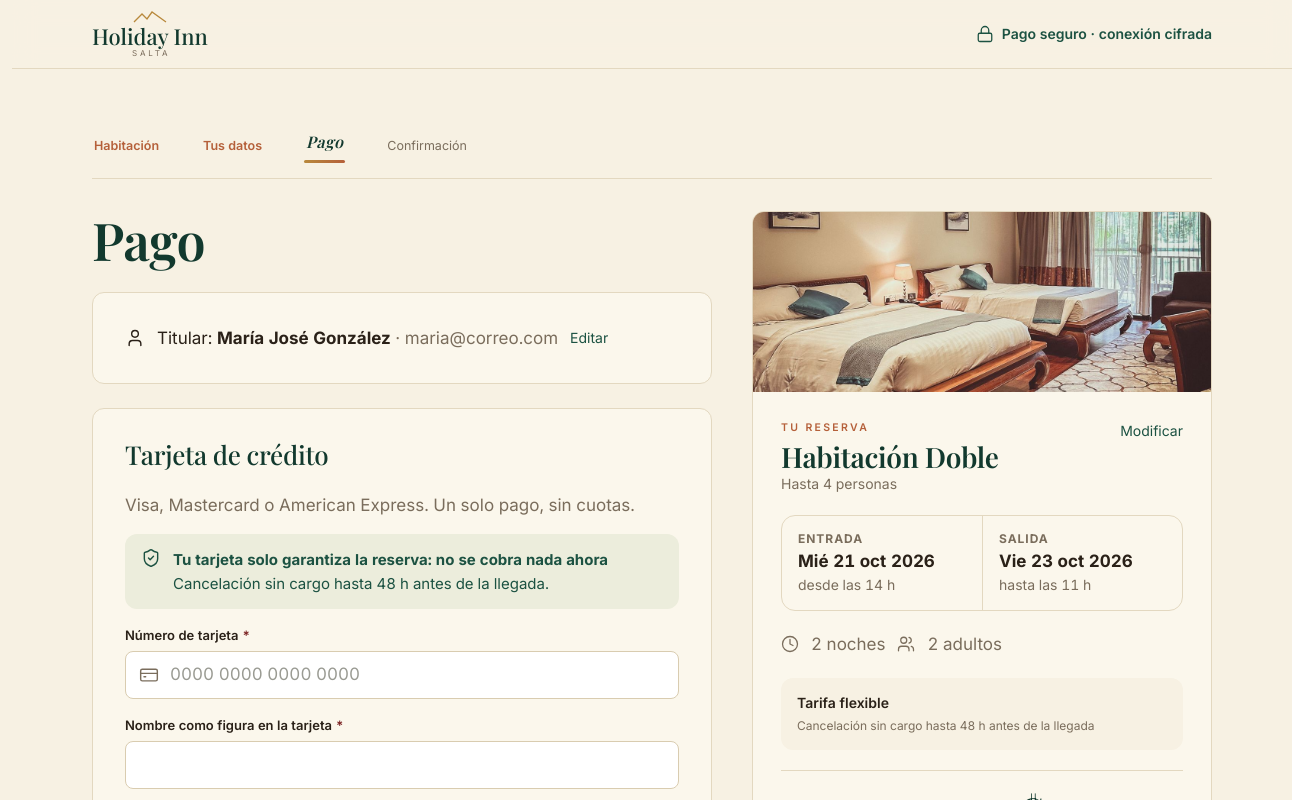
Test: pago con el formulario de tarjeta (mock) › crea la reserva, borra la clave y llega a la confirmación sin dejar la tarjeta en el storage
Type "4242424242424242" into the field labelled "Número de tarjeta *" at {"x": 402, "y": 675}, box 125,651 -> 679,699
(page scrolled)
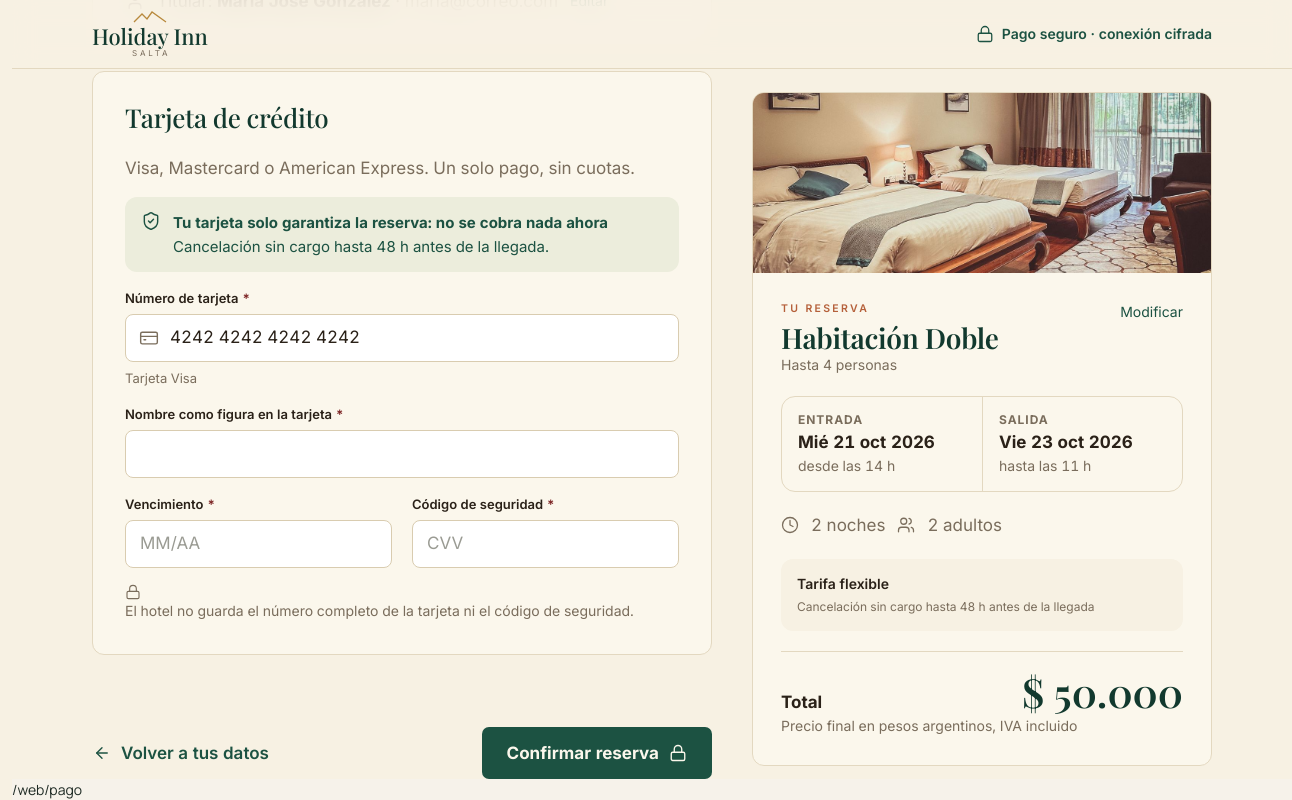
Type "MARIA GONZALEZ" into the field labelled "Nombre como figura en la tarjeta *" at {"x": 402, "y": 454}, box 125,430 -> 679,478
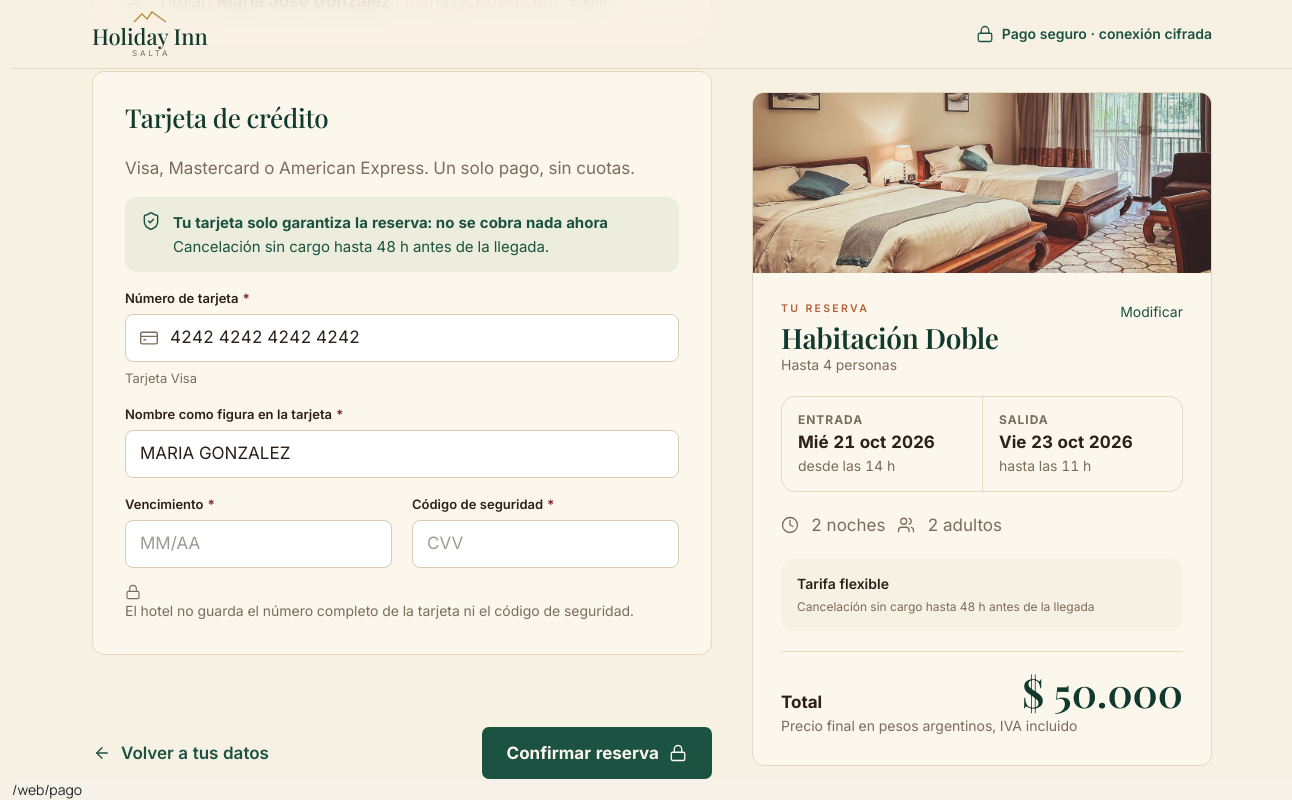
Type "1235" into the field labelled "Vencimiento *" at {"x": 258, "y": 544}, box 125,520 -> 392,568
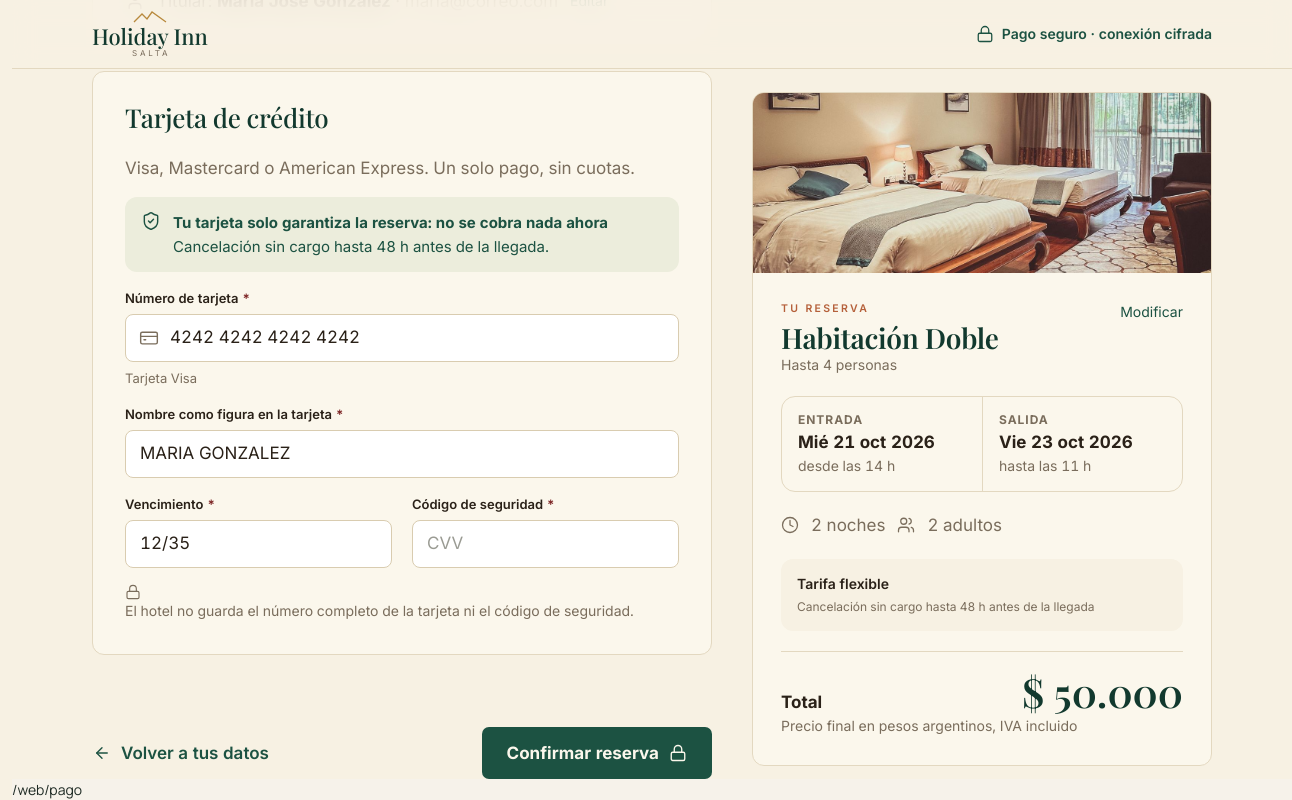
Type "123" into the field labelled "Código de seguridad *" at {"x": 546, "y": 544}, box 412,520 -> 679,568
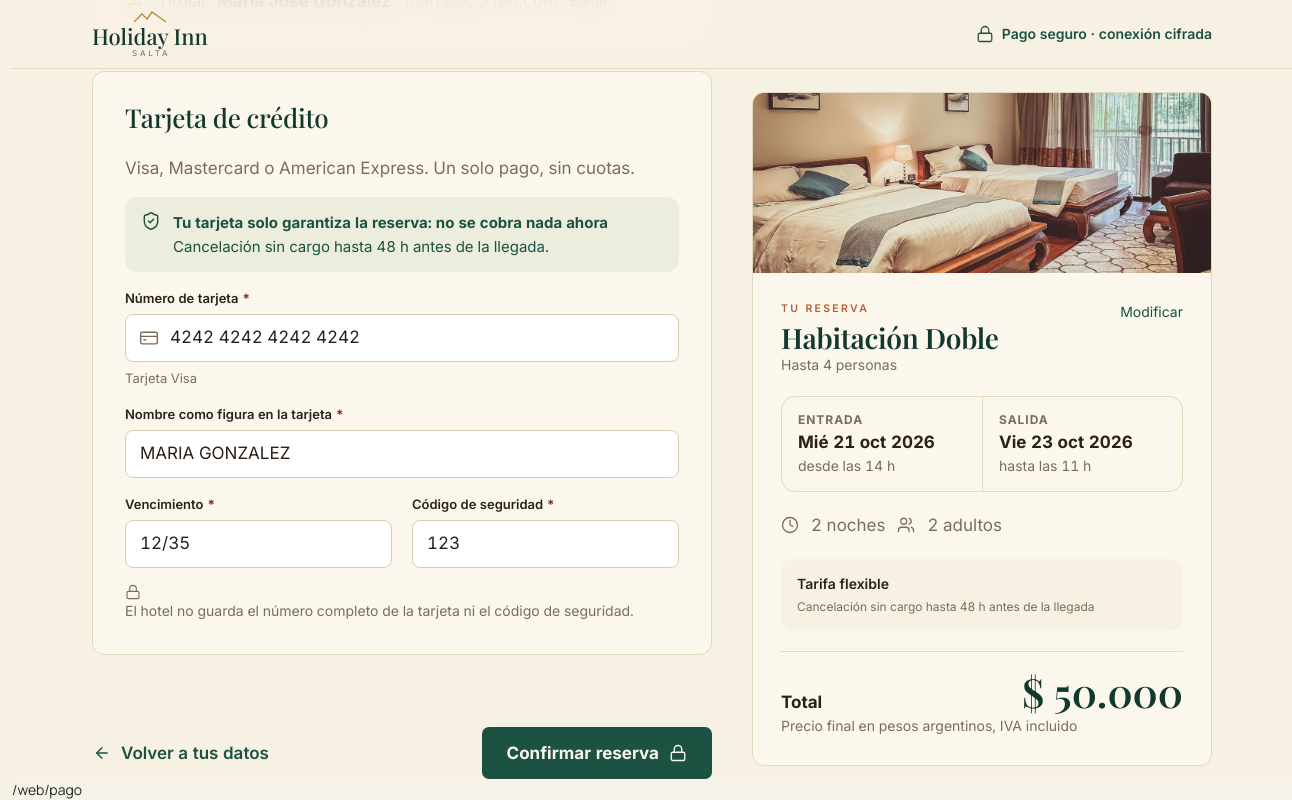
Click the button "Confirmar reserva" at {"x": 597, "y": 753}, box 482,727 -> 712,779
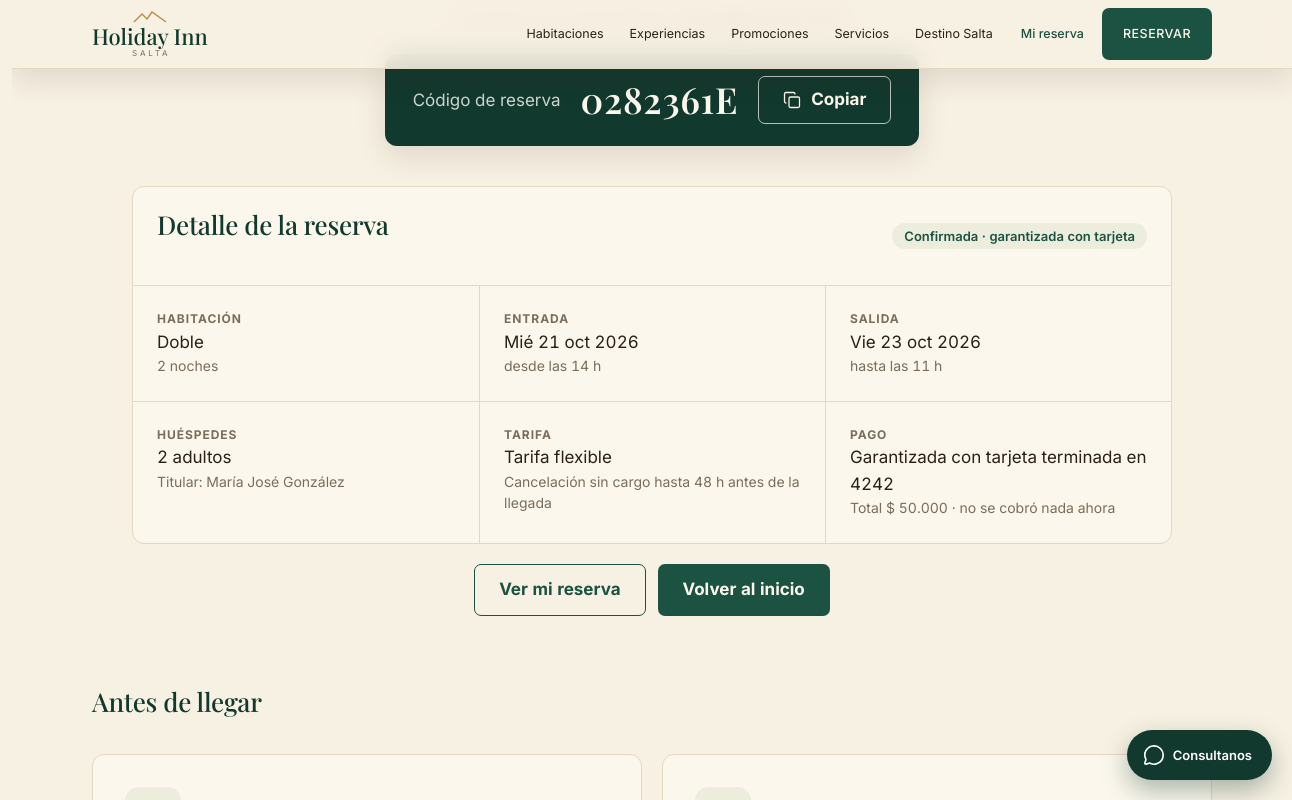
expect the text "Confirmada · garantizada con tarjeta" is shown: met, box 892,223 -> 1147,249
